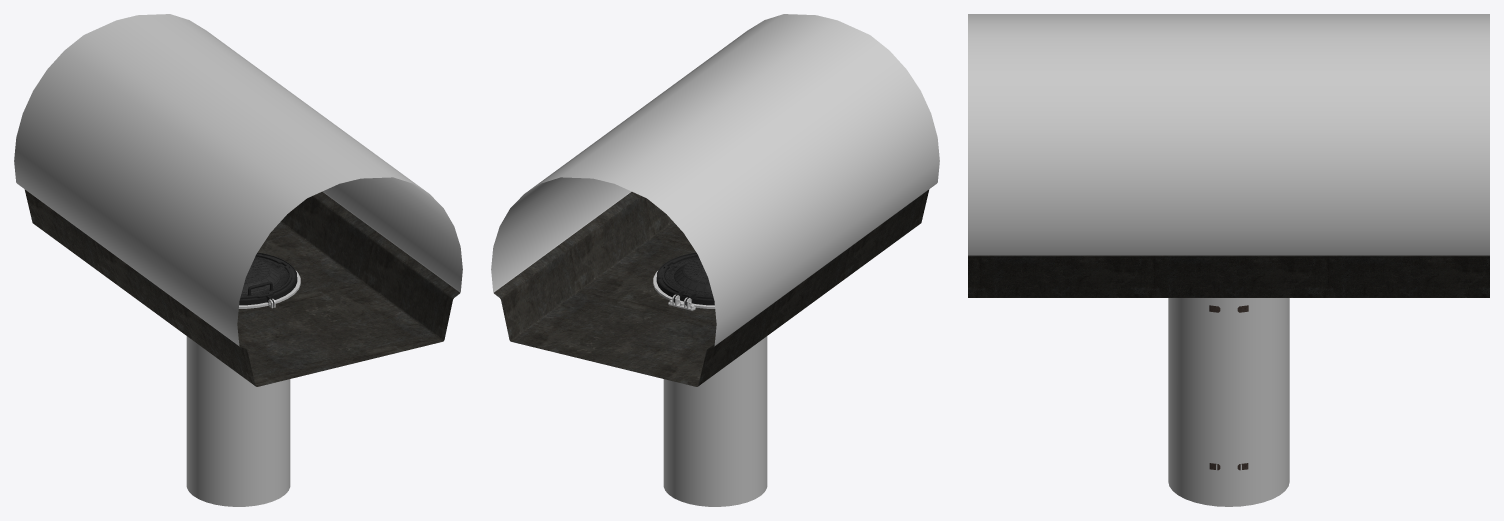
File: tunnel_manhole_shaft_end_1.obj
3 views of the same model, side by side, from view 1: azimuth 30°, elevation 25°; view 2: azimuth 150°, elevation 25°; view 3: azimuth 270°, elevation 25° (orthographic). The views are drawn at different scales.
Visible parts, largest first — view 1: tunnel_manhole_shaft_end_1, tunnel_manhole_cover_1; view 2: tunnel_manhole_shaft_end_1, tunnel_manhole_cover_1; view 3: tunnel_manhole_shaft_end_1.
Part boxes in pixels (x1=…): tunnel_manhole_shaft_end_1: x1=14, y1=14, x2=462, y2=506; tunnel_manhole_cover_1: x1=239, y1=252, x2=297, y2=306; tunnel_manhole_shaft_end_1: x1=491, y1=14, x2=939, y2=506; tunnel_manhole_cover_1: x1=656, y1=252, x2=714, y2=305; tunnel_manhole_shaft_end_1: x1=968, y1=14, x2=1489, y2=506.
Size of the model in its own units: 3.5 by 5.72 by 6.
